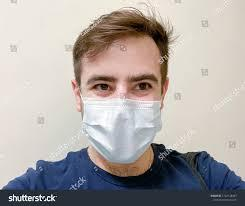mask: (78, 92, 166, 171)
